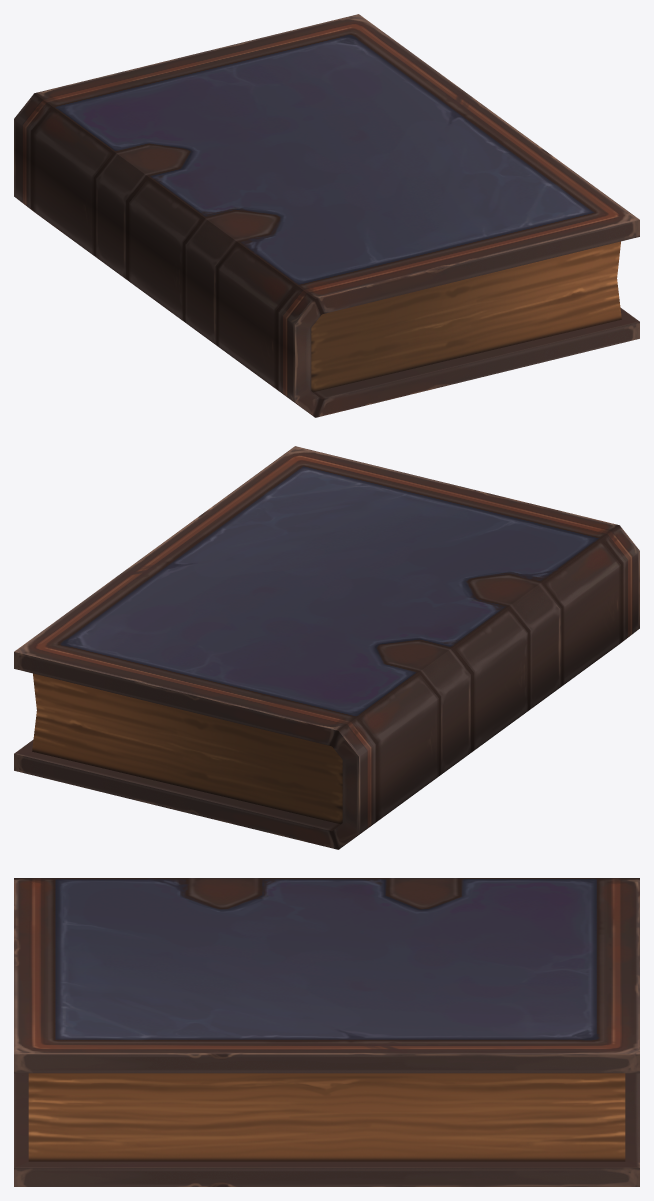
The model's file is Book_1.FBX.
3 renders of one model, top to bottom at view 1: azimuth 30°, elevation 25°; view 2: azimuth 150°, elevation 25°; view 3: azimuth 270°, elevation 25°, orthographic. The views are drawn at different scales.
Parts seen in each view (by area): view 1: Book_1; view 2: Book_1; view 3: Book_1.
Boxes of the visible parts, left/top/right/bottom form: Book_1: left=14, top=14, right=639, bottom=417; Book_1: left=14, top=446, right=639, bottom=849; Book_1: left=14, top=878, right=639, bottom=1186.
Bounding box in the file's own units: 271 × 89.25 × 383.
